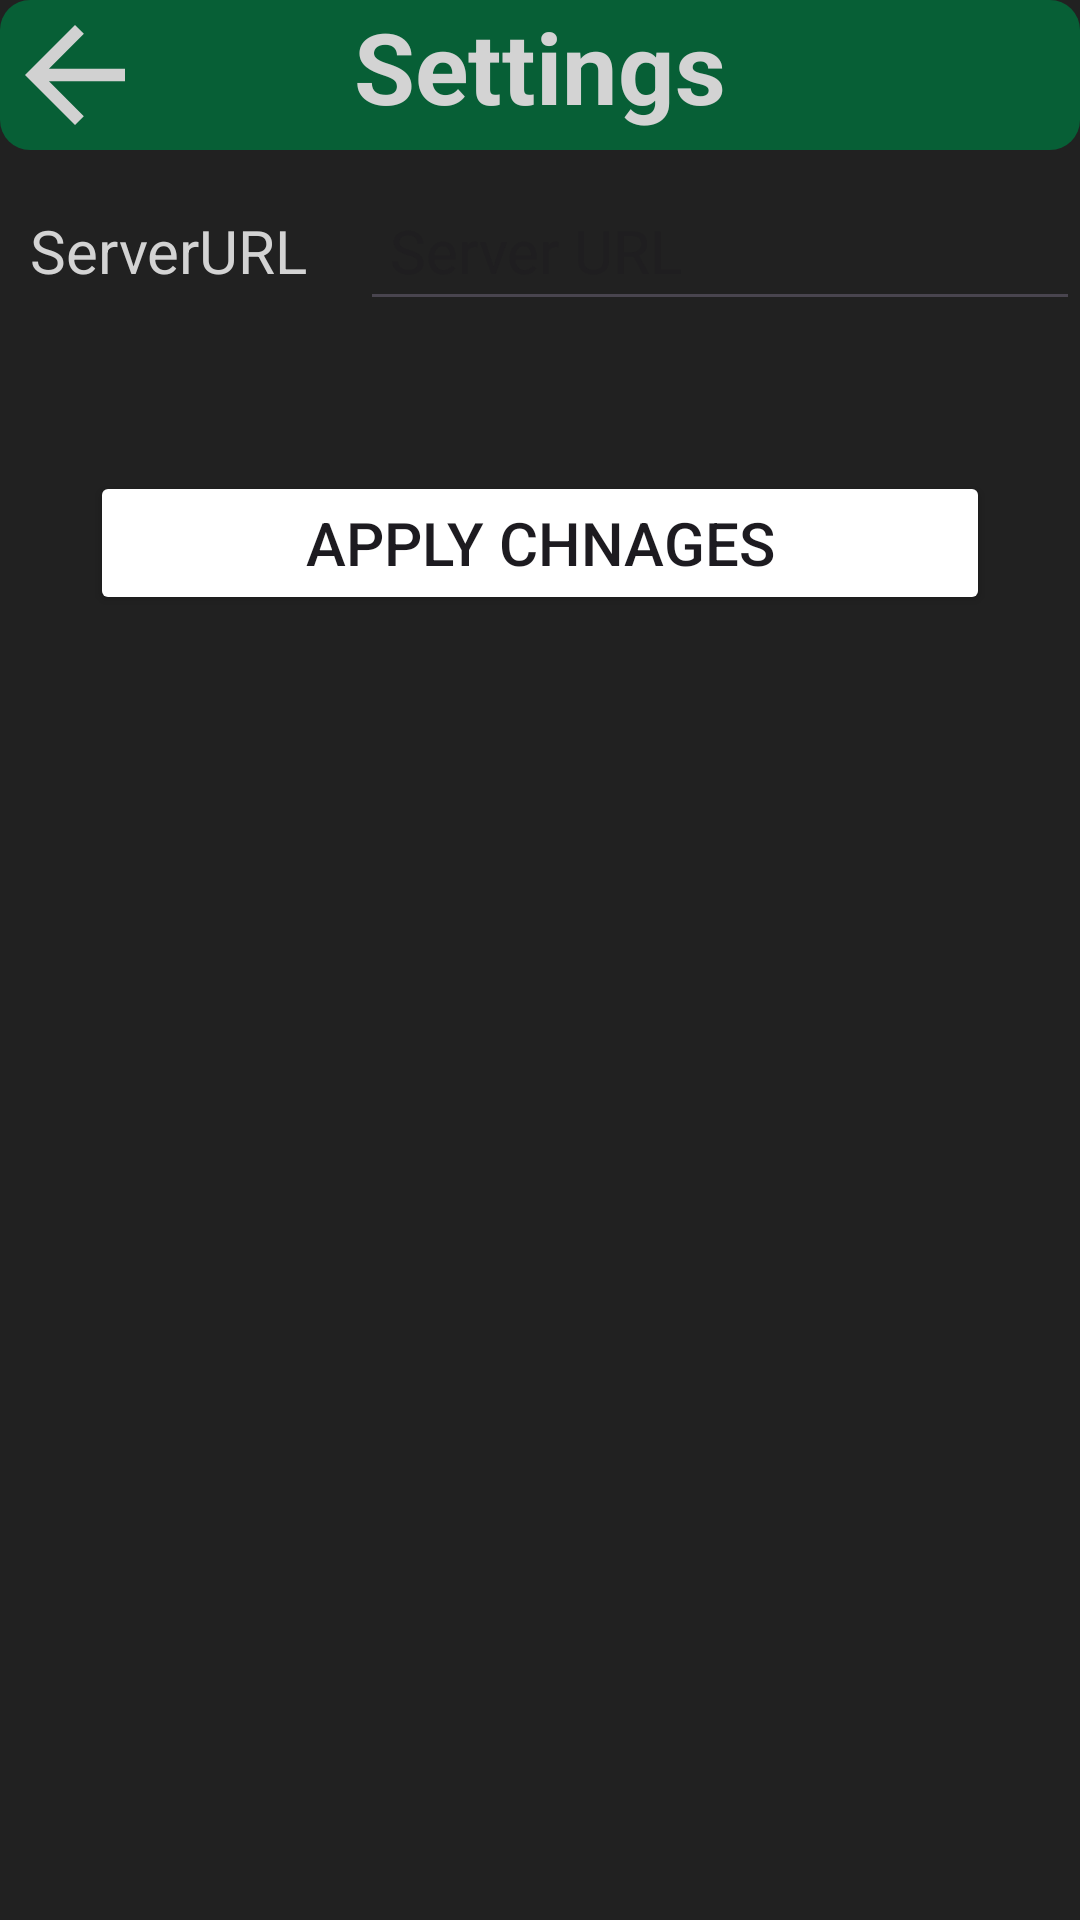

Where to tap for icons on this 1080×1920 app screen, as (x,y):
arrow back: (75,75)
